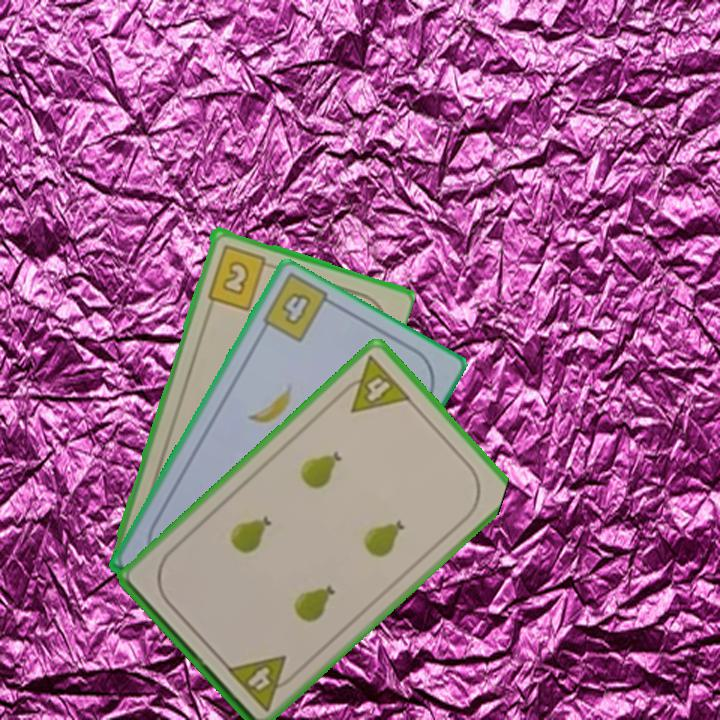2b: (203, 241, 277, 313)
4b: (277, 288, 314, 328)
4p: (333, 352, 414, 416), (223, 651, 301, 714)
